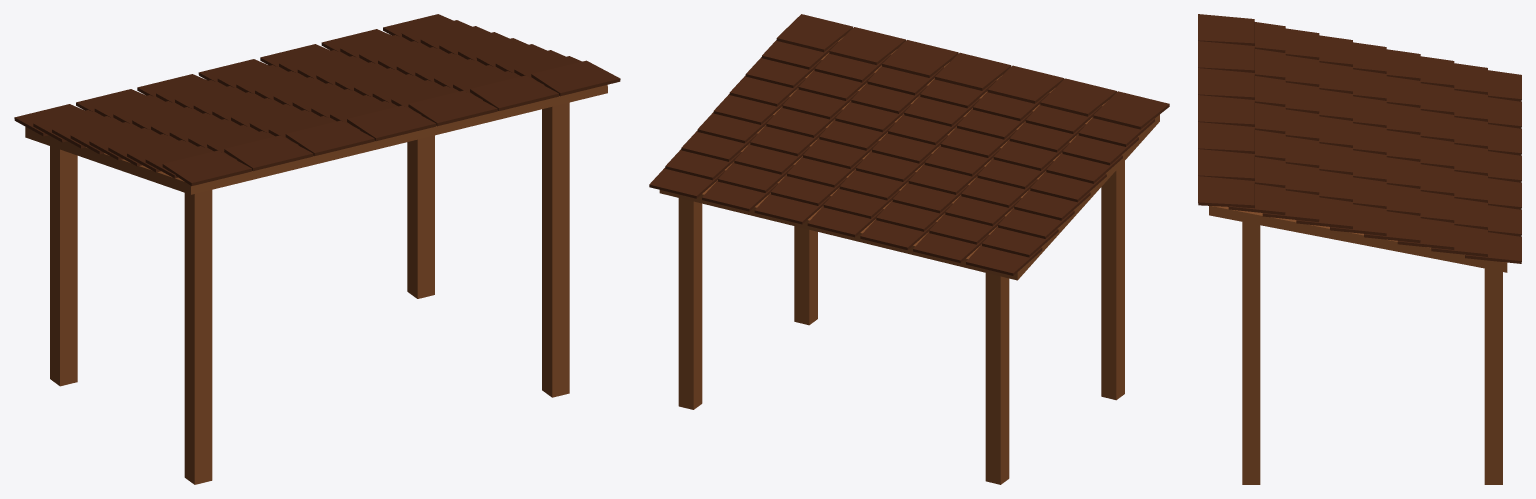
Rendered from canopy.fbx.
3 renders of one model, left to right at view 1: azimuth 30°, elevation 25°; view 2: azimuth 150°, elevation 25°; view 3: azimuth 270°, elevation 25°, orthographic. The views are drawn at different scales.
Visible parts, largest first — view 1: Cube.007, Cube; view 2: Cube.007, Cube; view 3: Cube.007, Cube.
Boxes of the visible parts, box(x1,y1,x2,y2) form: Cube.007: box(14, 14, 620, 186); Cube: box(25, 85, 607, 484); Cube.007: box(649, 14, 1169, 275); Cube: box(659, 37, 1159, 484); Cube.007: box(1198, 14, 1521, 263); Cube: box(1209, 206, 1507, 484).
Bounding box in the file's own units: 1085 × 790 × 788.
